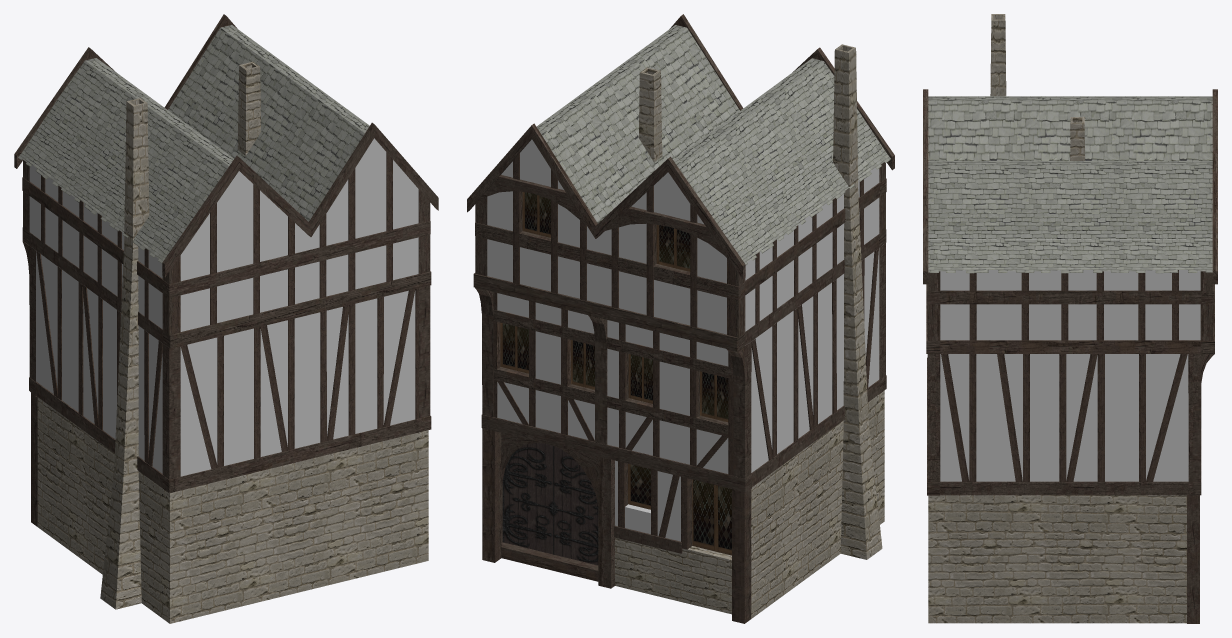
File: House2.fbx
3 renders of one model, left to right at view 1: azimuth 30°, elevation 25°; view 2: azimuth 150°, elevation 25°; view 3: azimuth 270°, elevation 25°, orthographic. The views are drawn at different scales.
Parts seen in each view (by area): view 1: House2; view 2: House2; view 3: House2.
Boxes of the visible parts, box(x1,y1,x2,y2) form: House2: box(14, 14, 438, 623); House2: box(467, 14, 894, 623); House2: box(923, 14, 1217, 623).
Size of the model in its own units: 512 by 828 by 457.
